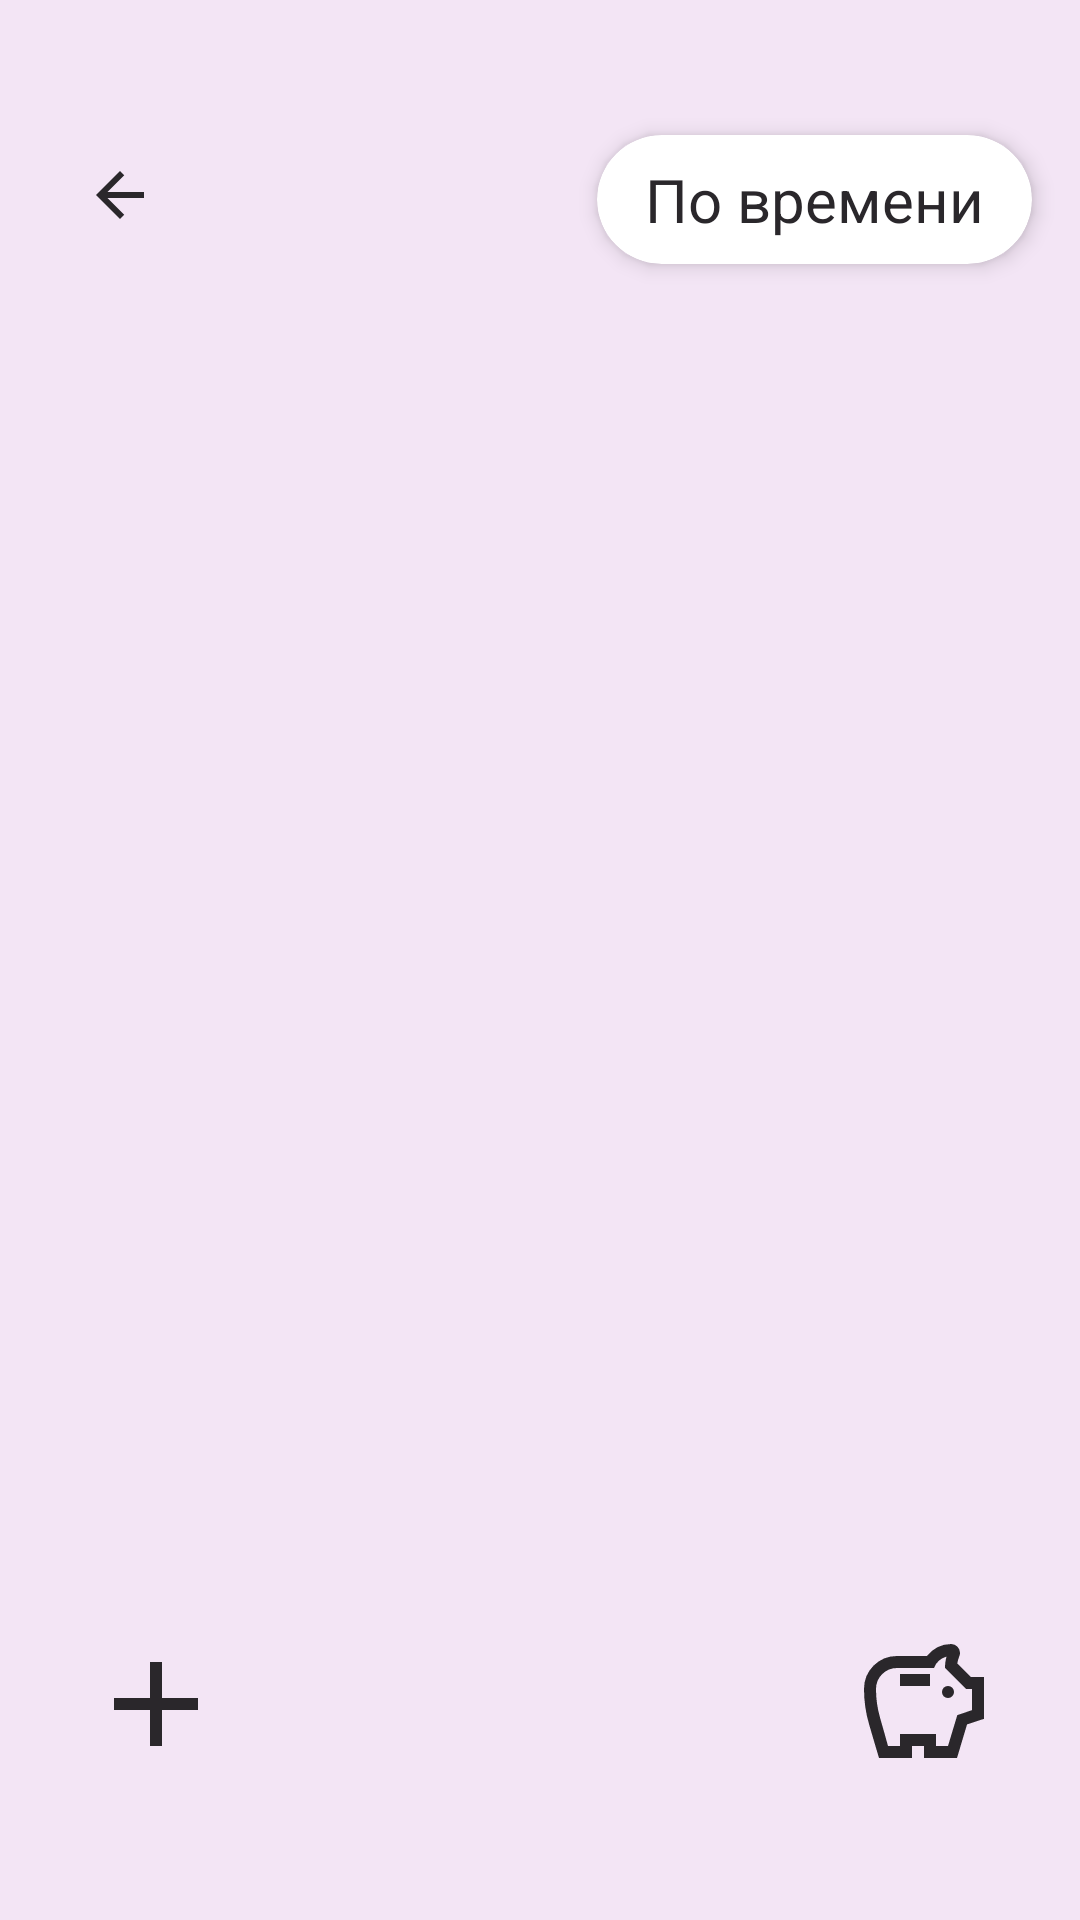

Named icons in this screenshot (1080*1920) and their centers, (x=x, y=y):
Баланс: (x=924, y=1701)
Добавить: (x=156, y=1704)
Назад: (x=120, y=195)
